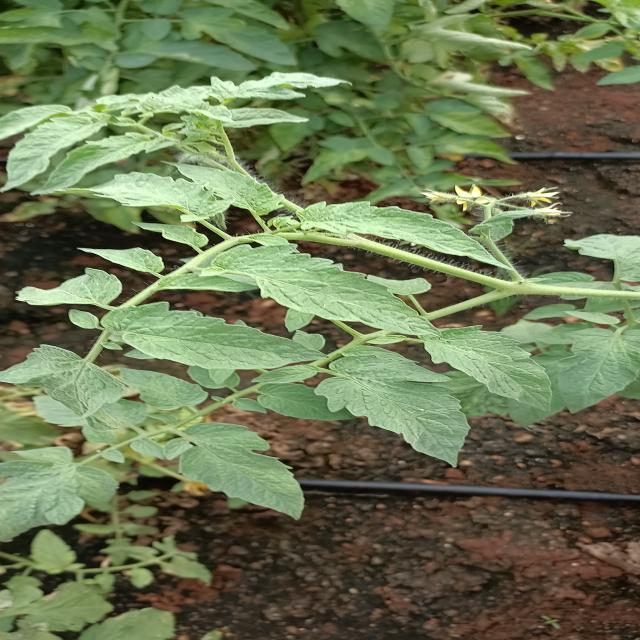Healthy Leaf: (204, 243, 435, 338), (167, 422, 344, 536), (73, 306, 316, 380), (314, 352, 449, 474), (303, 189, 525, 262), (432, 320, 565, 414)
